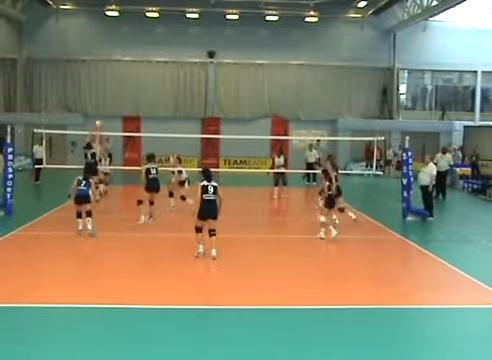Block: (75, 121, 106, 203)
Player: (195, 168, 222, 258), (325, 155, 355, 220), (71, 175, 95, 236), (317, 168, 337, 239), (168, 156, 193, 210), (142, 153, 160, 220), (272, 149, 286, 198), (98, 148, 109, 196)
ball: (94, 119, 103, 128)
